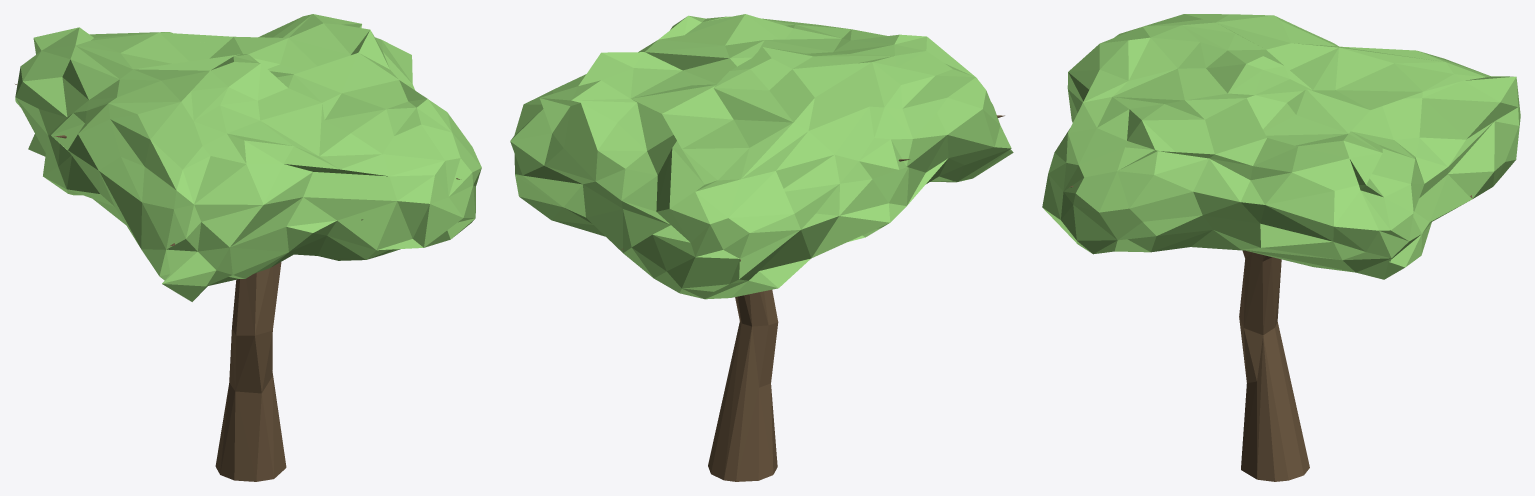
Rendered from Tree3.1.fbx.
The picture shows the model from 3 angles, left to right: view 1: azimuth 30°, elevation 25°; view 2: azimuth 150°, elevation 25°; view 3: azimuth 270°, elevation 25°; orthographic projection. The views are drawn at different scales.
Parts seen in each view (by area): view 1: Icosphere, Tree; view 2: Icosphere, Tree; view 3: Icosphere, Tree.
Boxes of the visible parts, box(x1,y1,x2,y2) form: Icosphere: box(15, 14, 481, 301); Tree: box(15, 84, 459, 481); Icosphere: box(510, 14, 1013, 299); Tree: box(621, 115, 1004, 481); Icosphere: box(1042, 14, 1520, 279); Tree: box(1069, 186, 1472, 481).
Size of the model in its own units: 1403 by 1486 by 1607.
Materials: 1 (1 with a texture image).
